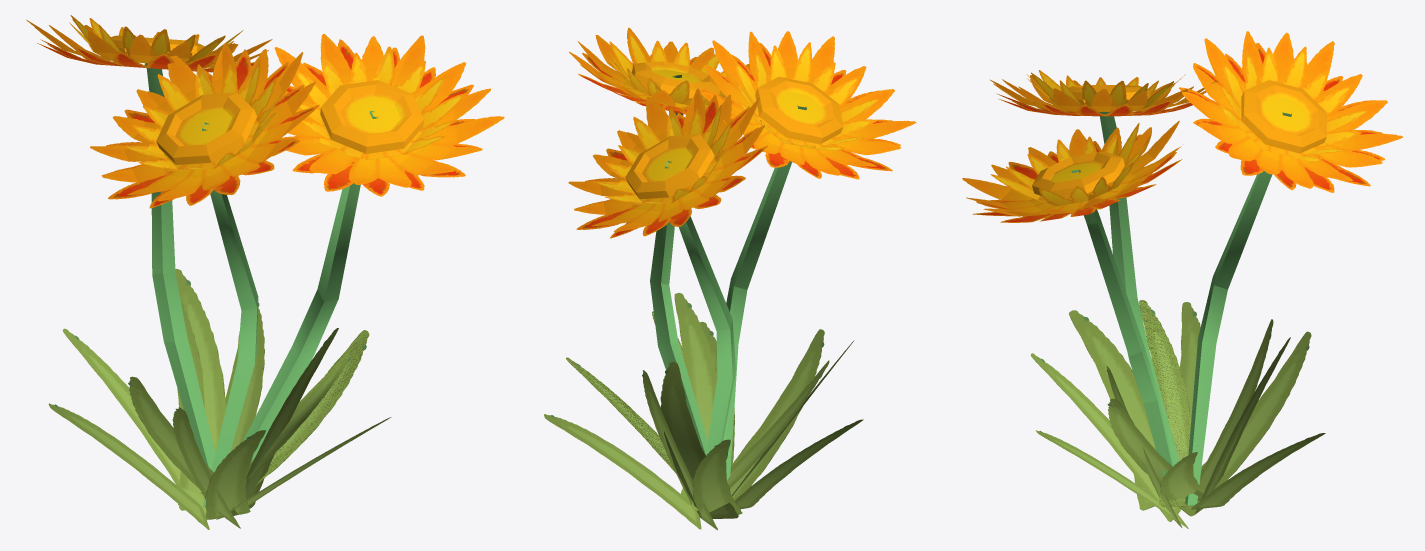
File: Orange Paper Daisy_Hand.fbx
The picture shows the model from 3 angles, left to right: view 1: azimuth 30°, elevation 25°; view 2: azimuth 150°, elevation 25°; view 3: azimuth 270°, elevation 25°; orthographic projection. The views are drawn at different scales.
Parts seen in each view (by area): view 1: Leaves (1), Leaves (3), Leaves (2); view 2: Leaves (2), Leaves (1), Leaves (3); view 3: Leaves (2), Leaves (3), Leaves (1).
Part boxes in pixels (x1,y1,x2,y2): Leaves (1): (48,42,357,529); Leaves (3): (172,34,504,528); Leaves (2): (26,15,338,522); Leaves (2): (544,88,829,529); Leaves (1): (642,31,916,530); Leaves (3): (566,27,854,518); Leaves (2): (1106,31,1402,527); Leaves (3): (962,120,1273,528); Leaves (1): (990,70,1290,521).
Size of the model in its own units: 1.14 by 1.41 by 1.27.
